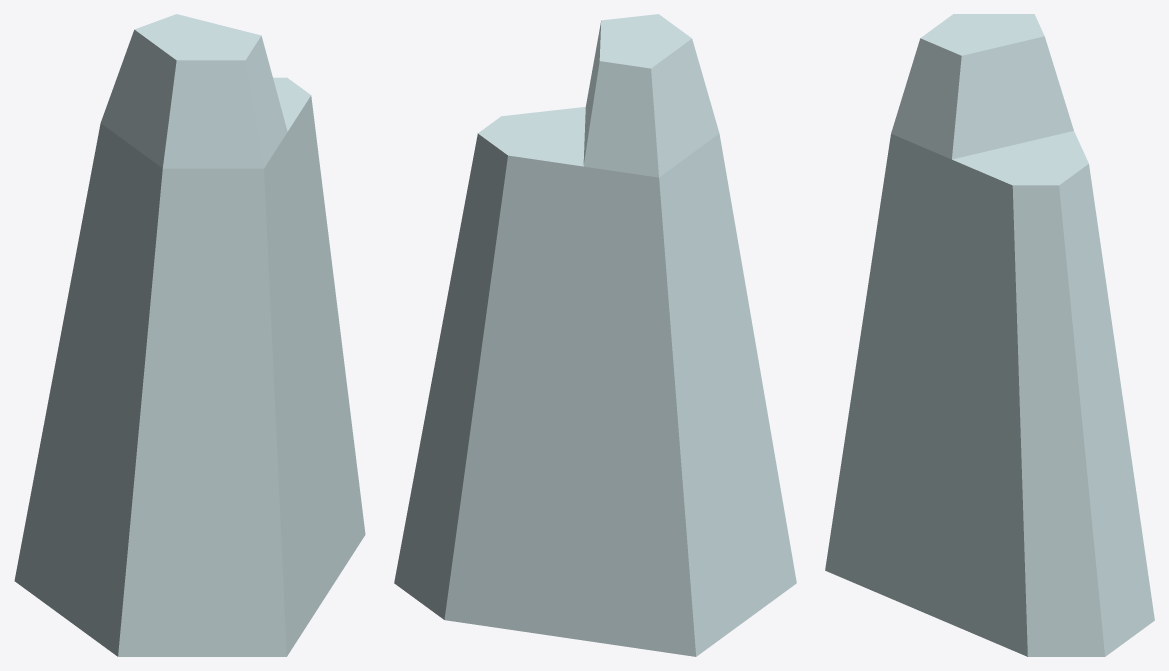
Rendered from stone_tallC.glb.
3 renders of one model, left to right at view 1: azimuth 30°, elevation 25°; view 2: azimuth 150°, elevation 25°; view 3: azimuth 270°, elevation 25°, orthographic. The views are drawn at different scales.
Visible parts, largest first — view 1: stone_tallC; view 2: stone_tallC; view 3: stone_tallC.
Part boxes in pixels (bbox=[...]): stone_tallC: bbox=[14, 14, 365, 656]; stone_tallC: bbox=[394, 14, 796, 656]; stone_tallC: bbox=[825, 14, 1154, 656].
Size of the model in its own units: 0.4562 by 0.7829 by 0.4365.
Materials: 1 (1 with a texture image).
